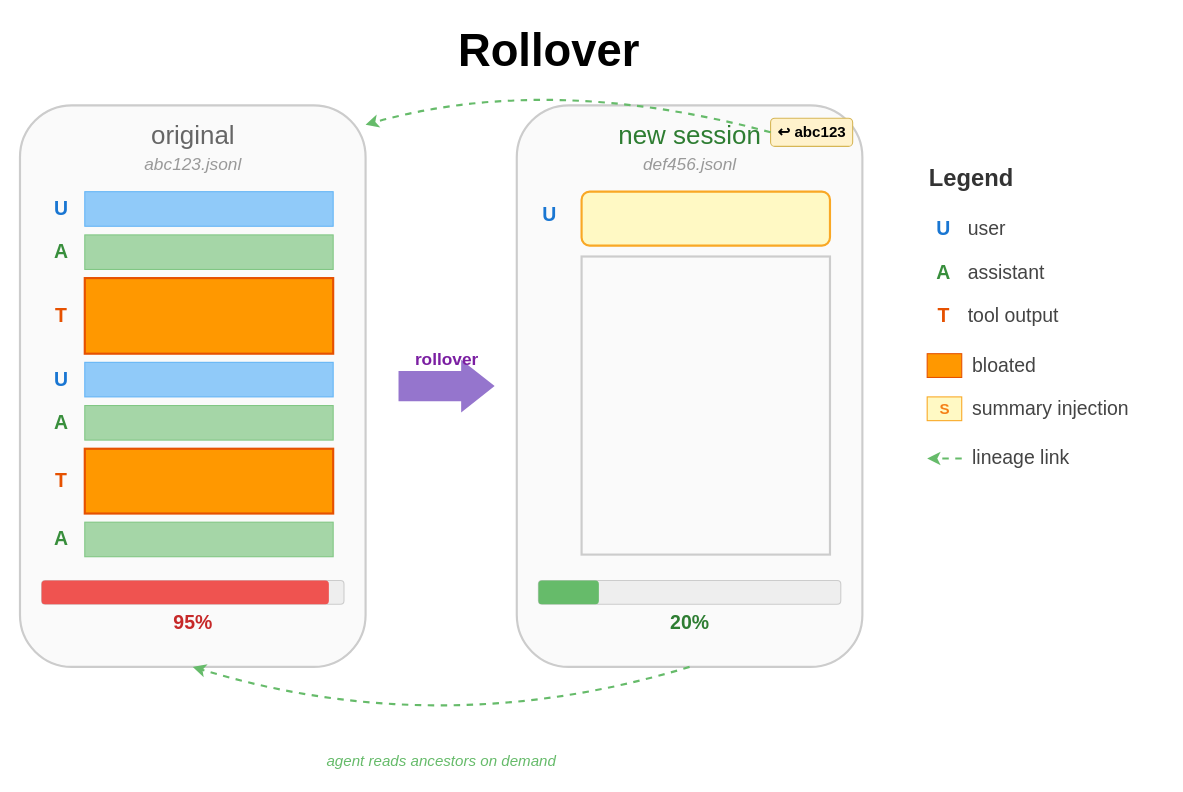
Image size: 1183x792. Some labels were removed from this diagram. The shapes that lost their labels are listed below. From the top down, each one's box as (x1, y1, x2, y2) in pixels, then its label:
(580, 190, 831, 246): Summary + Lineage
(580, 255, 831, 555): room for more...
